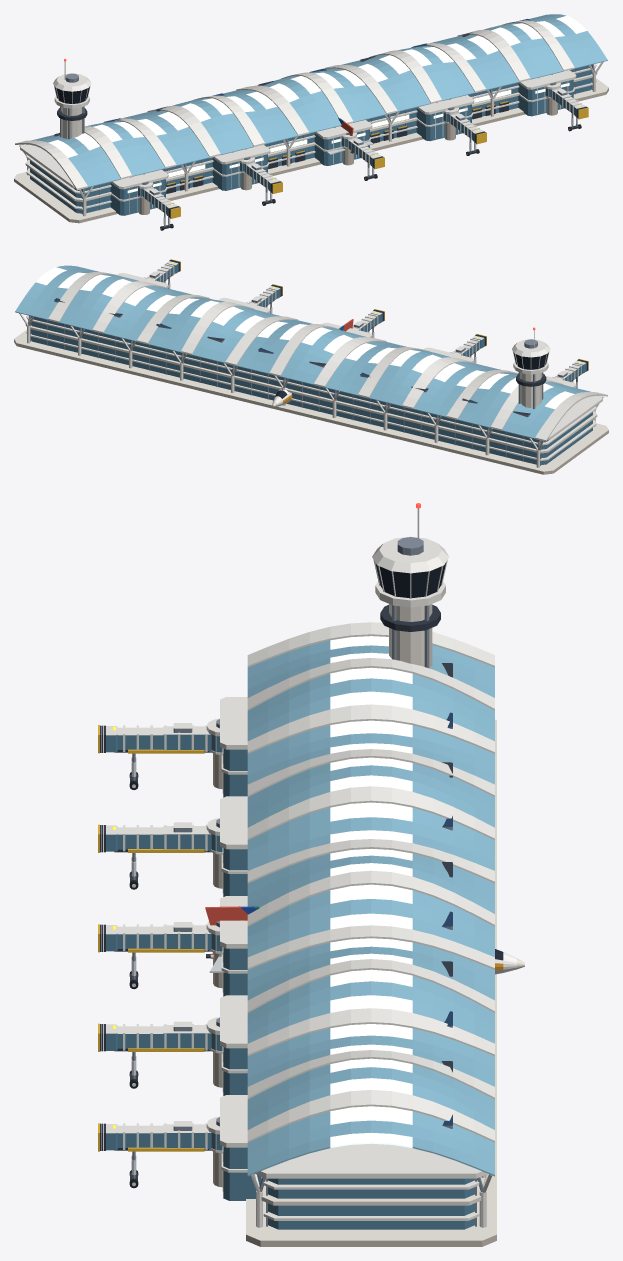
Rendered from groundline.glb.
The picture shows the model from 3 angles, top to bottom: view 1: azimuth 30°, elevation 25°; view 2: azimuth 150°, elevation 25°; view 3: azimuth 270°, elevation 25°; orthographic projection. The views are drawn at different scales.
Parts seen in each view (by area): view 1: TerminalRoof, Terminal, Jetbridge_4, Jetbridge_2, Jetbridge_5, Jetbridge_3, Jetbridge_1; view 2: TerminalRoof, Terminal, Jetbridge_5, Jetbridge_4, Jetbridge_2, Jetbridge_3, Jetbridge_1, Aircraft_A321; view 3: TerminalRoof, Terminal, Jetbridge_5, Jetbridge_1, Jetbridge_2, Jetbridge_4, Jetbridge_3, Aircraft_A321.
Part boxes in pixels (x1=…): TerminalRoof: x1=15, y1=14, x2=607, y2=190; Terminal: x1=14, y1=58, x2=608, y2=223; Jetbridge_4: x1=443, y1=107, x2=486, y2=155; Jetbridge_2: x1=239, y1=157, x2=282, y2=205; Jetbridge_5: x1=545, y1=82, x2=588, y2=131; Jetbridge_3: x1=341, y1=132, x2=384, y2=180; Jetbridge_1: x1=137, y1=181, x2=180, y2=230; TerminalRoof: x1=15, y1=265, x2=607, y2=441; Terminal: x1=14, y1=273, x2=608, y2=474; Jetbridge_5: x1=144, y1=259, x2=180, y2=288; Jetbridge_4: x1=246, y1=284, x2=282, y2=313; Jetbridge_2: x1=450, y1=334, x2=486, y2=363; Jetbridge_3: x1=352, y1=309, x2=384, y2=337; Jetbridge_1: x1=551, y1=359, x2=588, y2=388; Aircraft_A321: x1=272, y1=319, x2=353, y2=406; TerminalRoof: x1=247, y1=622, x2=494, y2=1176; Terminal: x1=220, y1=503, x2=496, y2=1246; Jetbridge_5: x1=98, y1=1116, x2=222, y2=1188; Jetbridge_1: x1=98, y1=718, x2=222, y2=789; Jetbridge_2: x1=98, y1=818, x2=222, y2=889; Jetbridge_4: x1=98, y1=1017, x2=222, y2=1088; Jetbridge_3: x1=98, y1=921, x2=222, y2=989; Aircraft_A321: x1=205, y1=906, x2=524, y2=974.
Size of the model in its own units: 127 by 28.2 by 43.54.
